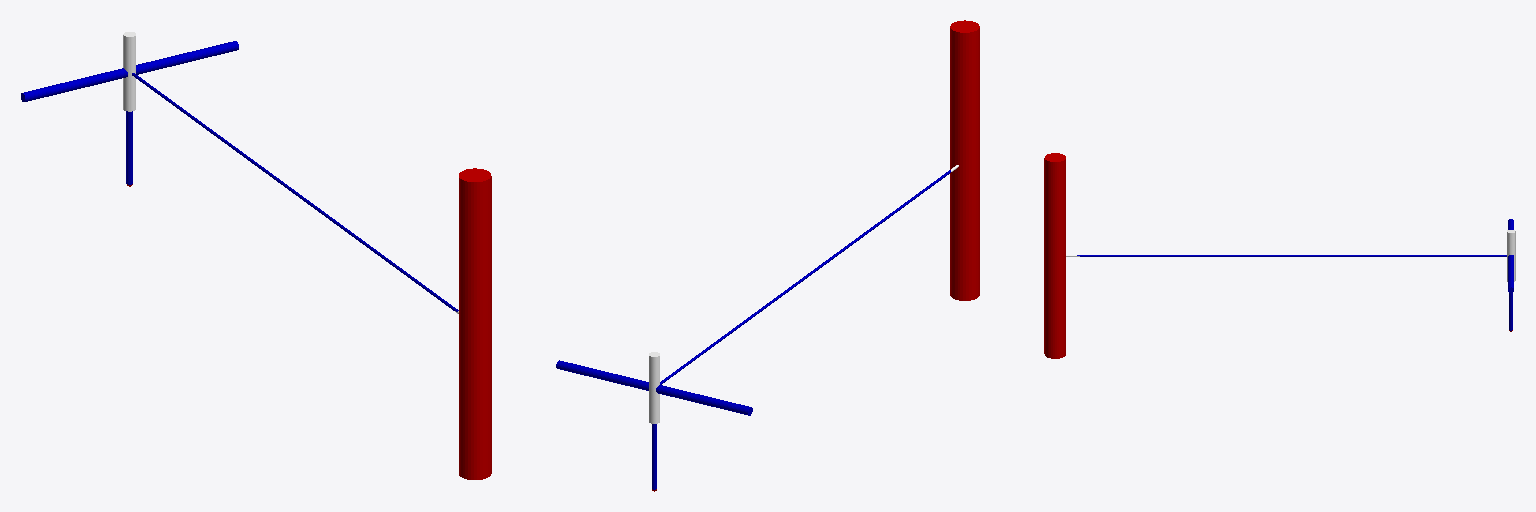
robot.urdf — 1dhopper:
<?xml version="1.0"?>
<robot name="1dhopper">
   <material name="blue">
    <color rgba="0 0 0.8 1"/>
  </material>

  <material name="red">
   <color rgba="0.8 0 0 1"/>
 </material>

  <material name="white">
    <color rgba="1 1 1 0.5"/>
  </material>

  <link name="base">
    <visual>
      <geometry>
        <cylinder length="2" radius="0.1"/>
      </geometry>
      <material name="red"/>
      <origin rpy="0 0 1.57075" xyz="0 0 0"/>
    </visual>
    <collision>
       <geometry>
         <cylinder length="2" radius="0.1"/>
       </geometry>
       <origin rpy="0 0 1.57075" xyz="0 0 0"/>
     </collision>
     <inertial>
     <mass value="1000"/>
     <origin rpy="0 0 1.57075" xyz="0 0 0"/>
     <inertia ixx="0.4" ixy="0.0" ixz="0.0" iyy="0.4" iyz="0.0" izz="0.2"/>
   </inertial>
  </link>

<link name="L1">
    <visual>
      <geometry>
        <cylinder length="0.15" radius="0.01"/>
      </geometry>
      <material name="white"/>
      <origin rpy="1.57075 0 0" xyz="0 0.15 0"/>
    </visual>
    <collision>
       <geometry>
         <cylinder length="0.15" radius="0.01"/>
       </geometry>
       <origin rpy="1.57075 0 0" xyz="0 0.15 0"/>
     </collision>
  <inertial>
     <mass value="0"/>
     <inertia ixx="0.4" ixy="0.0" ixz="0.0" iyy="0.4" iyz="0.0" izz="0.2"/>
     <origin rpy="1.57075 0 0" xyz="0 0.15 0"/>
  </inertial>
</link>

 <joint name="base_jiont_L1" type="continuous">
<!-- <joint name="base_jiont_L1" type="fixed"> -->

      <parent link="base"/>
      <child link="L1"/>
       <axis xyz="0 0 1"/>
      <origin xyz="0 0 0"/>
    </joint>

<link name="L2">
    <visual>
      <geometry>
        <cylinder length="4" radius="0.01"/>
      </geometry>
      <material name="blue"/>
      <origin rpy="1.57075 0 0" xyz="0 2 0"/>
    </visual>
  </link>

 <!-- <joint name="L1_L2" type="fixed"> -->
 <joint name="L1_L2" type="continuous">

      <parent link="L1"/>
      <child link="L2"/>
       <axis xyz="1 0 0"/>
      <origin xyz="0 0.2 0"/>
  </joint>

 <link name="balance_beam">
    <visual>
     <material name="blue"/>
      <geometry>
        <cylinder length="1.5" radius="0.03"/>
      </geometry>
      <origin rpy="0 1.57075 0" xyz="0 0 0"/>
    </visual>
    <collision>
       <geometry>
         <cylinder length="1.5" radius="0.03"/>
       </geometry>
       <origin rpy="0 1.57075 0" xyz="0 0 0"/>
     </collision>
     <inertial>
     <mass value="8"/>
     <inertia ixx="0.4" ixy="0.0" ixz="0.0" iyy="0.4" iyz="0.0" izz="0.2"/>
     <origin rpy="0 1.57075 0" xyz="0 0 0"/>
   </inertial>
  </link>

 <joint name="L2_beam" type="continuous">
   <!-- continuous -->
      <parent link="L2"/>
      <child link="balance_beam"/>
      <origin xyz="0 4 0"/>
      <axis xyz="0 1 0"/>
       <!-- <limit effort="1000.0" lower="-0.8" upper="0.8" velocity="10"/> -->
       <!-- <limit effort="1000.0" lower="0" upper="0" velocity="10"/> -->



  </joint>

  <link name="base_link">
    <visual>
      <geometry>
        <cylinder length="0.5" radius="0.04"/>
      </geometry>
      <material name="white"/>
    </visual>
    <collision>
       <geometry>
         <cylinder length="0.5" radius="0.04"/>
       </geometry>
     </collision>
     <inertial>
     <mass value="0.15"/>
     <inertia ixx="0.4" ixy="0.0" ixz="0.0" iyy="0.4" iyz="0.0" izz="0.2"/>
   </inertial>

  </link>

  <joint name="base_to_beam" type="revolute">
      <axis xyz="0 1 0"/>
      <limit effort="1000.0" lower="-1.57079632679" upper="1.57079632679" velocity="100"/>
      <!-- <limit effort="1000.0" lower="-1.2" upper="1.2" velocity="10"/> -->
      <parent link="balance_beam"/>
      <child link="base_link"/>
      <origin xyz="0 0 0"/>

    </joint>

    <link name="leg">
        <visual>
          <geometry>
            <cylinder length="0.5" radius="0.02"/>
          </geometry>
          <material name="blue"/>
          <origin rpy="0 0 0" xyz="0 0 0"/>
        </visual>
        <collision>
           <geometry>
             <cylinder length="0.5" radius="0.02"/>
           </geometry>
           <origin rpy="0 0 0" xyz="0 0 0"/>
         </collision>
         <inertial>
         <mass value="0.45"/>
         <inertia ixx="0.4" ixy="0.0" ixz="0.0" iyy="0.4" iyz="0.0" izz="0.2"/>
         <origin rpy="0 0 0" xyz="0 0 -0.4"/>
       </inertial>
      </link>

    <joint name="foot_joint" type="prismatic">
        <axis xyz="0 0 1"/>
        <limit effort="1000.0" lower="0" upper="0.5" velocity="1000"/>
        <dynamics damping="0" friction="0"/>
        <parent link="base_link"/>
        <child link="leg"/>
        <origin xyz="0 0 -0.5"/>

      </joint>

      <link name="toe">
        <visual>
          <geometry>
            <sphere radius="0.02"/>
          </geometry>
          <material name="red"/>
        </visual>
        <collision>
          <geometry>
            <sphere radius="0.02"/>
          </geometry>
         </collision>
         <inertial>
         <mass value="0.01"/>
         <inertia ixx="1.0" ixy="0.0" ixz="0.0" iyy="1.0" iyz="0.0" izz="1.0"/>
       </inertial>

      </link>

      <joint name="leg_toe" type="fixed">
          <parent link="leg"/>
          <child link="toe"/>
          <origin xyz="0 0 -0.25"/>
          <dynamics damping="0.5" friction="1.0"/>
        </joint>


</robot>

--- Facts derived from the render (not from the file) ---
Views: 3 orthographic renders of the robot side by side, from view 1: azimuth 30°, elevation 25°; view 2: azimuth 150°, elevation 25°; view 3: azimuth 270°, elevation 25°.
Model 1dhopper with 7 links and 6 joints (1 revolute, 3 continuous, 1 prismatic, 1 fixed), rooted at base, posed every joint at zero.
Links seen in each view (by area): view 1: base, balance_beam, L2, base_link; view 2: base, balance_beam, L2, base_link; view 3: base, L2.
Link boxes in pixels (bbox=[...]): base: bbox=[459, 168, 491, 479]; balance_beam: bbox=[21, 41, 238, 101]; L2: bbox=[132, 73, 458, 311]; base_link: bbox=[123, 32, 135, 111]; base: bbox=[950, 20, 979, 300]; balance_beam: bbox=[556, 360, 752, 415]; L2: bbox=[660, 170, 950, 384]; base_link: bbox=[649, 352, 659, 423]; base: bbox=[1044, 153, 1065, 358]; L2: bbox=[1077, 255, 1506, 256].
Bounding box of the posed robot: 1.5 × 4.34 × 2 m (x, y, z).
Geometry: primitives only (box / cylinder / sphere), no mesh files.